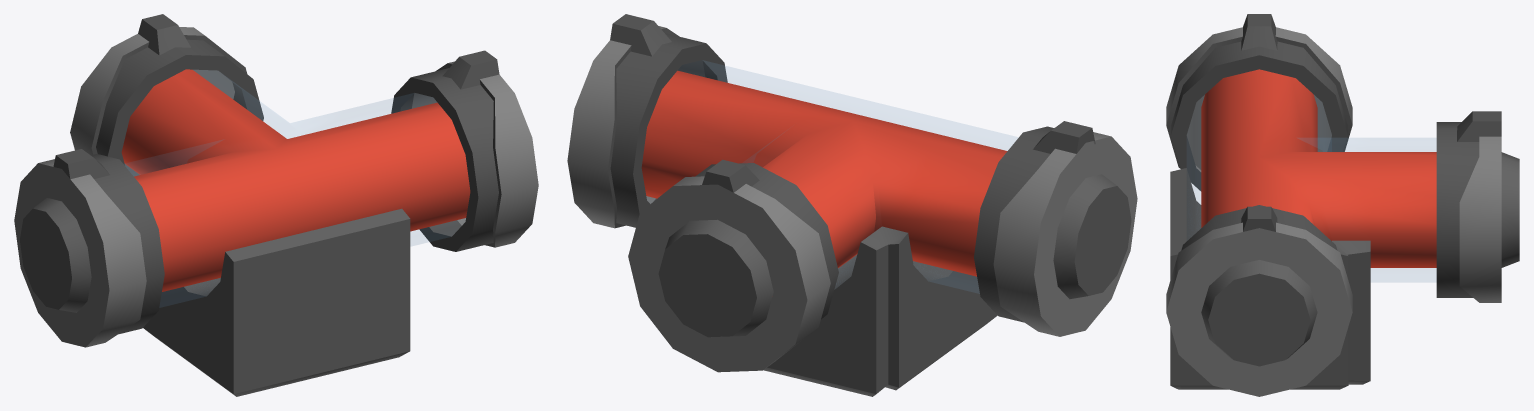
File: Liquid_Red_Pipe_3_Way.fbx
3 renders of one model, left to right at view 1: azimuth 30°, elevation 25°; view 2: azimuth 150°, elevation 25°; view 3: azimuth 270°, elevation 25°, orthographic. The views are drawn at different scales.
Visible parts, largest first — view 1: Liquid_Red_Pipe_3_Way; view 2: Liquid_Red_Pipe_3_Way; view 3: Liquid_Red_Pipe_3_Way.
Part boxes in pixels (x1,y1,x2,y2): Liquid_Red_Pipe_3_Way: [14, 14, 538, 396]; Liquid_Red_Pipe_3_Way: [567, 14, 1137, 396]; Liquid_Red_Pipe_3_Way: [1166, 14, 1519, 396].
Bounding box in the file's own units: 215 × 107 × 146.
